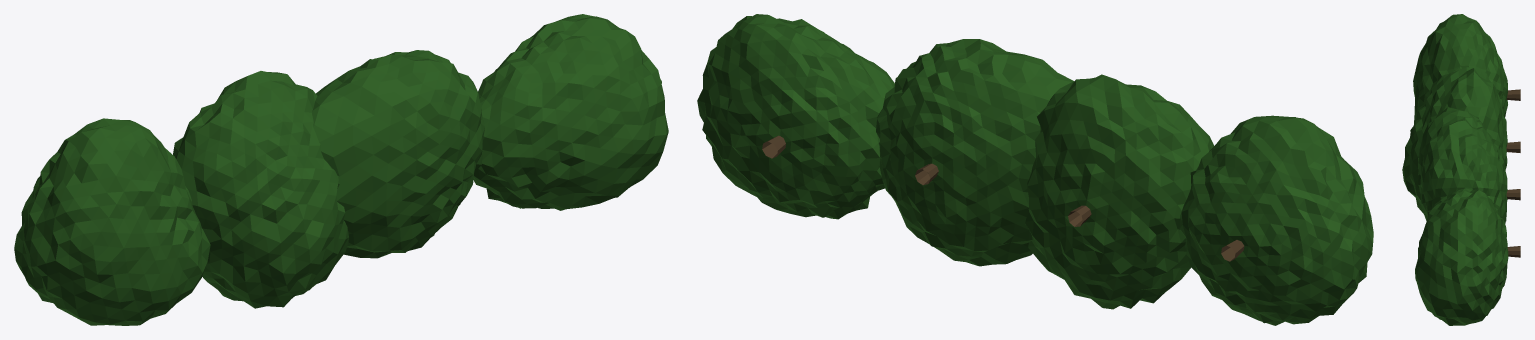
Rendered from citrus_run4_c.obj.
The picture shows the model from 3 angles, left to right: view 1: azimuth 30°, elevation 25°; view 2: azimuth 150°, elevation 25°; view 3: azimuth 270°, elevation 25°; orthographic projection. The views are drawn at different scales.
Visible parts, largest first — view 1: canopy; view 2: canopy, trunk; view 3: canopy, trunk.
Part boxes in pixels (box(x1,y1,x2,y2)): canopy: box(14, 14, 668, 325); canopy: box(697, 14, 1373, 325); trunk: box(762, 135, 1244, 261); canopy: box(1402, 14, 1508, 325); trunk: box(1506, 89, 1520, 257).
Bounding box in the file's own units: 13 × 4.44 × 2.98.
